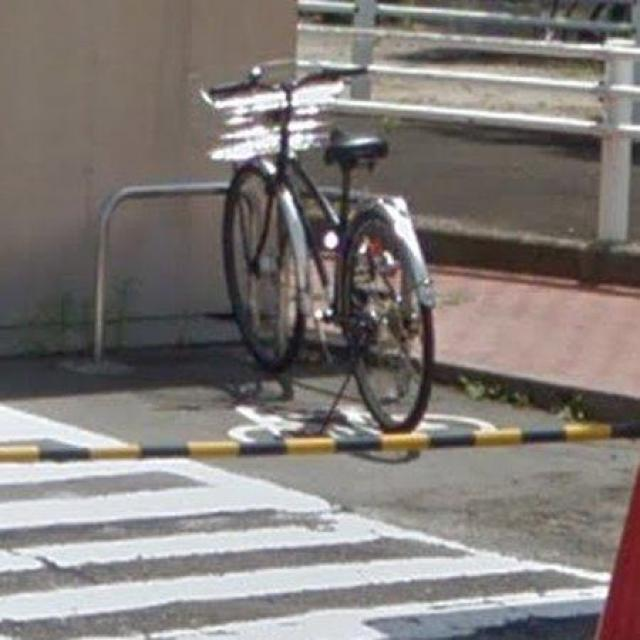bicycle: (176, 24, 496, 452)
